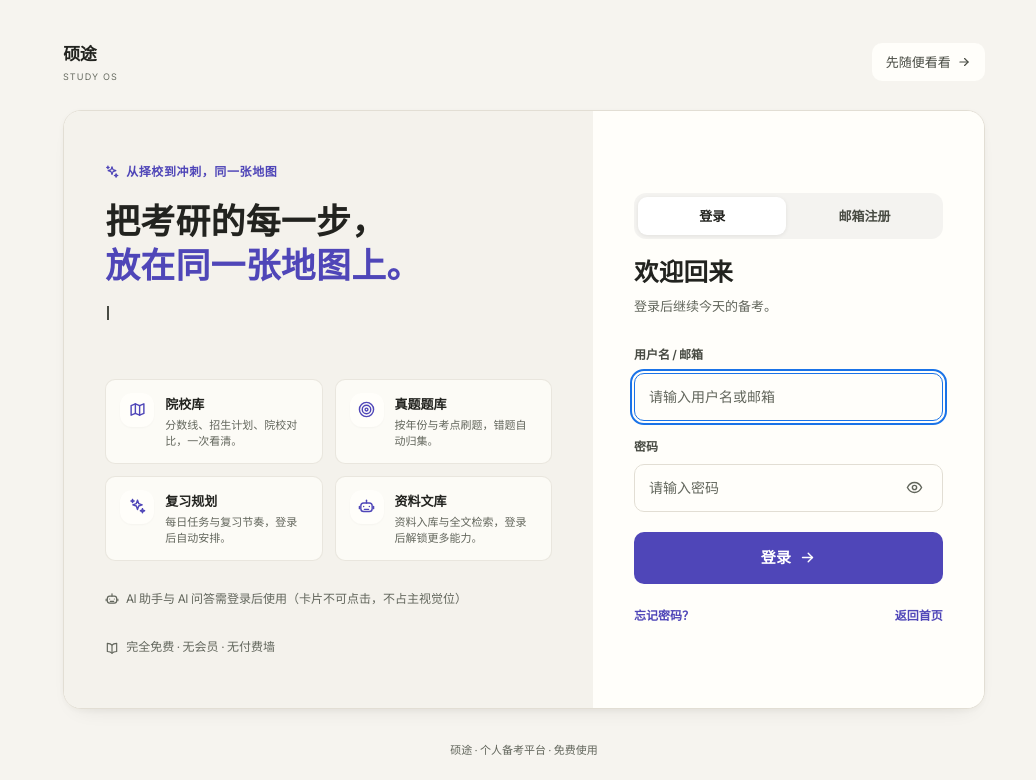
Test: Login 首跑分流 › goal.configured === false 时进入 /onboarding
In the field labelled "用户名 / 邮箱": (788, 397) top-left (634, 373), bottom-right (943, 421), type "alice"
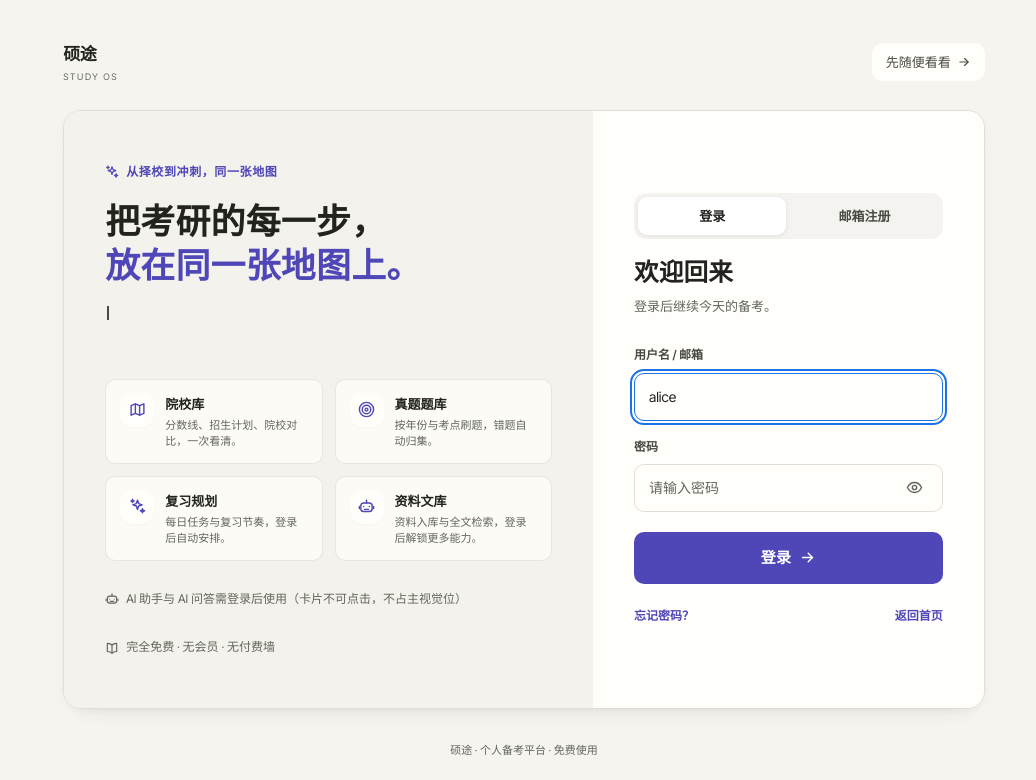
In the password field labelled "密码": (788, 488) top-left (634, 464), bottom-right (943, 512), type "Passw0rd!"
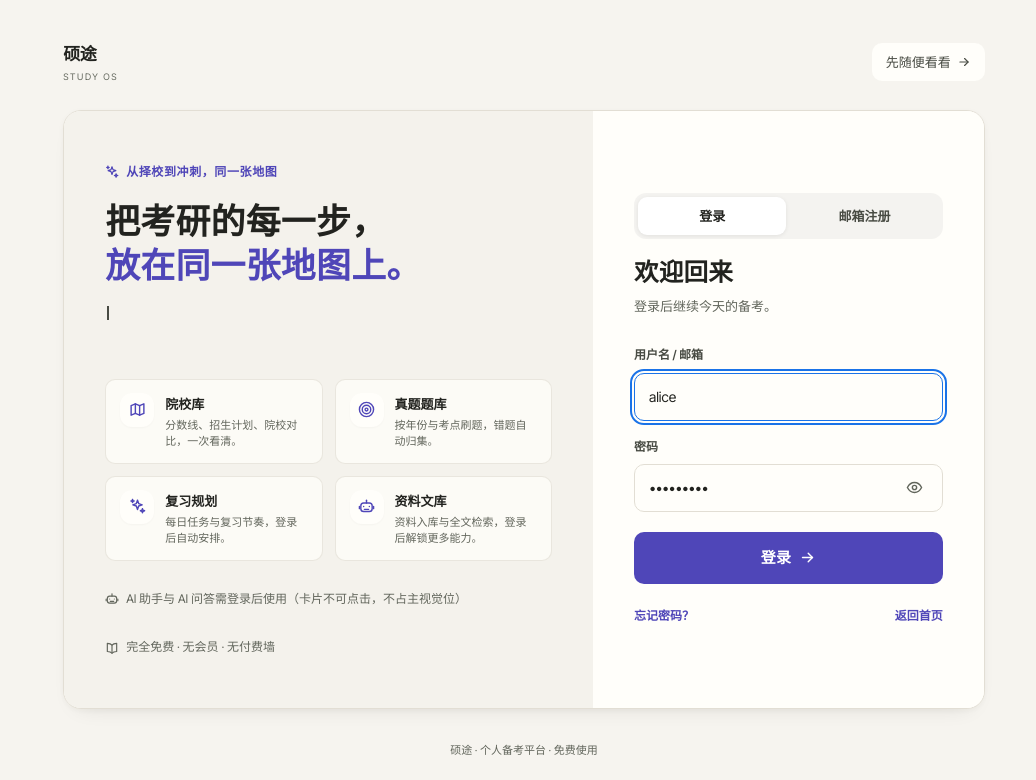
Submit the form "用户名 / 邮箱 密码 登录", box top-left (634, 345), bottom-right (943, 584)
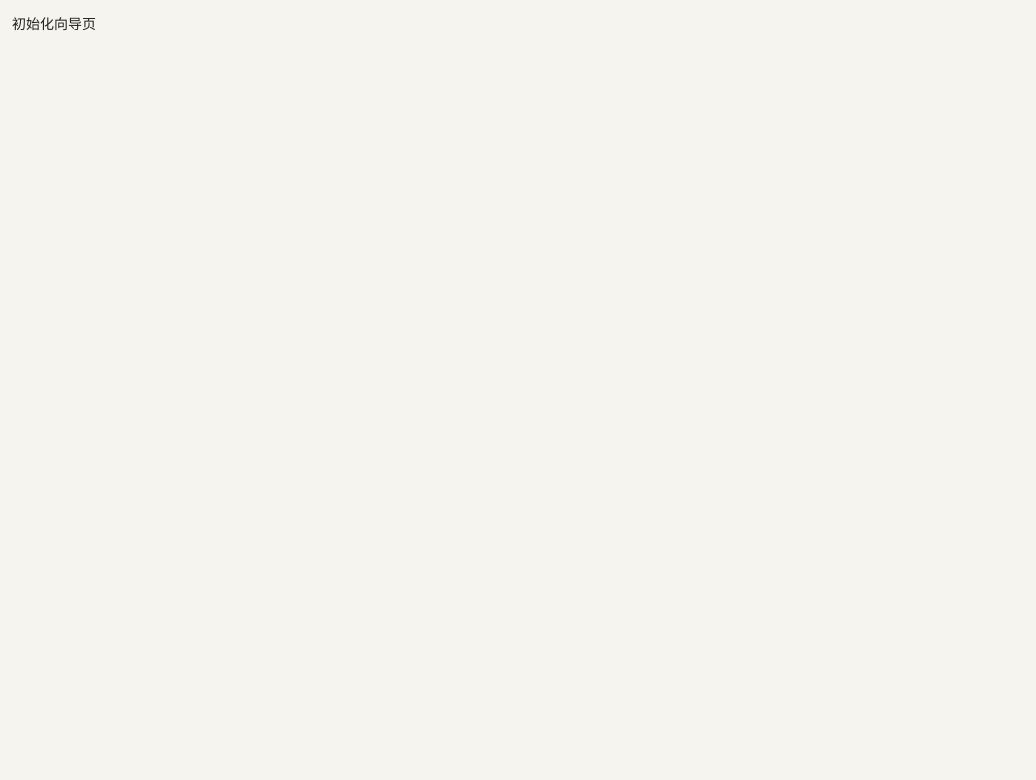
expect the text "初始化向导页" is shown: met, box top-left (12, 15), bottom-right (96, 32)
